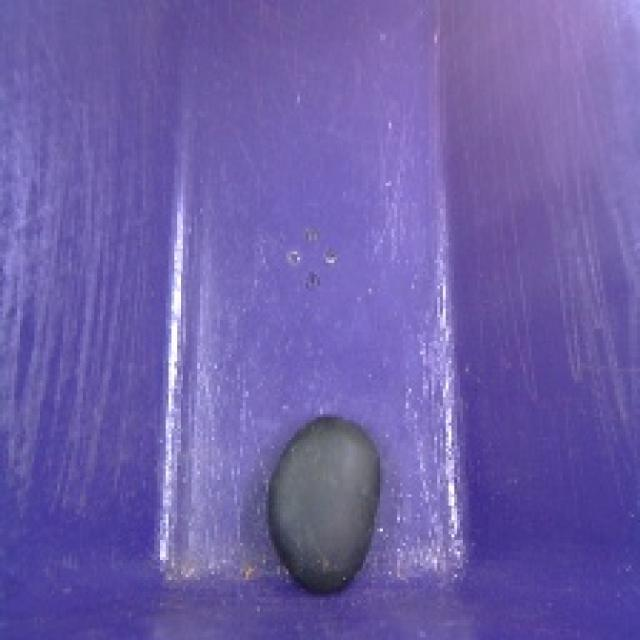cobbles: (259, 406, 392, 603)
